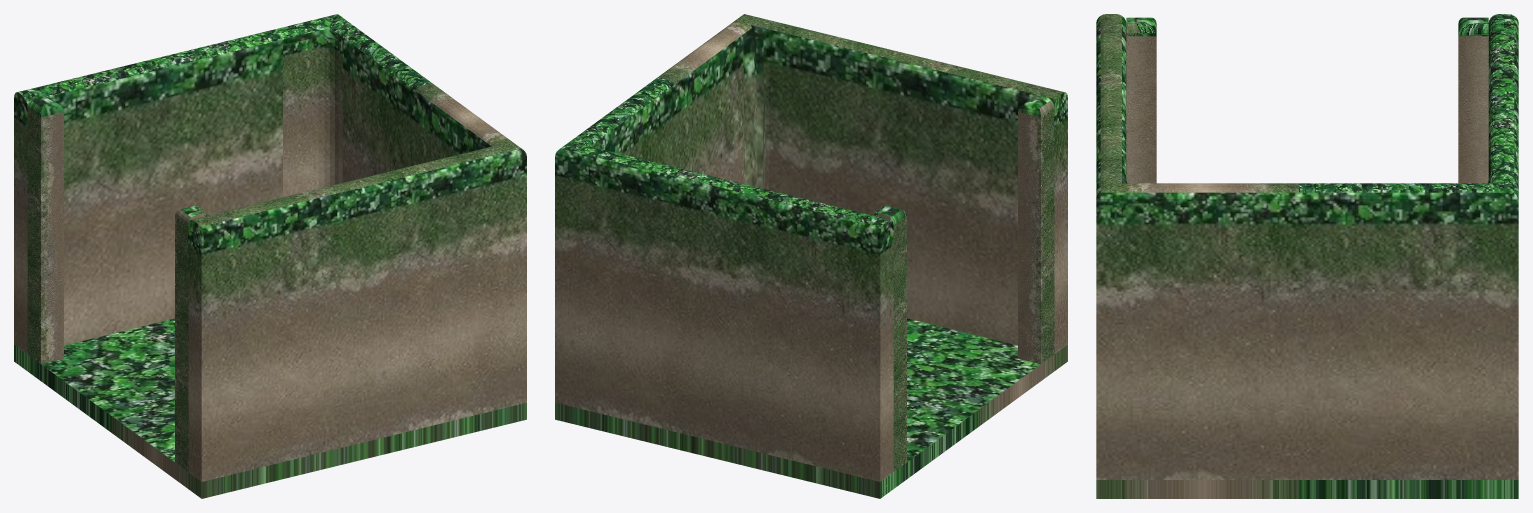
The model's file is start.obj.
3 renders of one model, left to right at view 1: azimuth 30°, elevation 25°; view 2: azimuth 150°, elevation 25°; view 3: azimuth 270°, elevation 25°, orthographic. The views are drawn at different scales.
Visible parts, largest first — view 1: Plane.004_Plane.008; view 2: Plane.004_Plane.008; view 3: Plane.004_Plane.008.
Part boxes in pixels (box(x1,y1,x2,y2)): Plane.004_Plane.008: box(14, 14, 526, 498); Plane.004_Plane.008: box(555, 14, 1067, 498); Plane.004_Plane.008: box(1096, 14, 1518, 498).
Bounding box in the file's own units: 2 × 1.6 × 2.
Materials: 1 (1 with a texture image).
